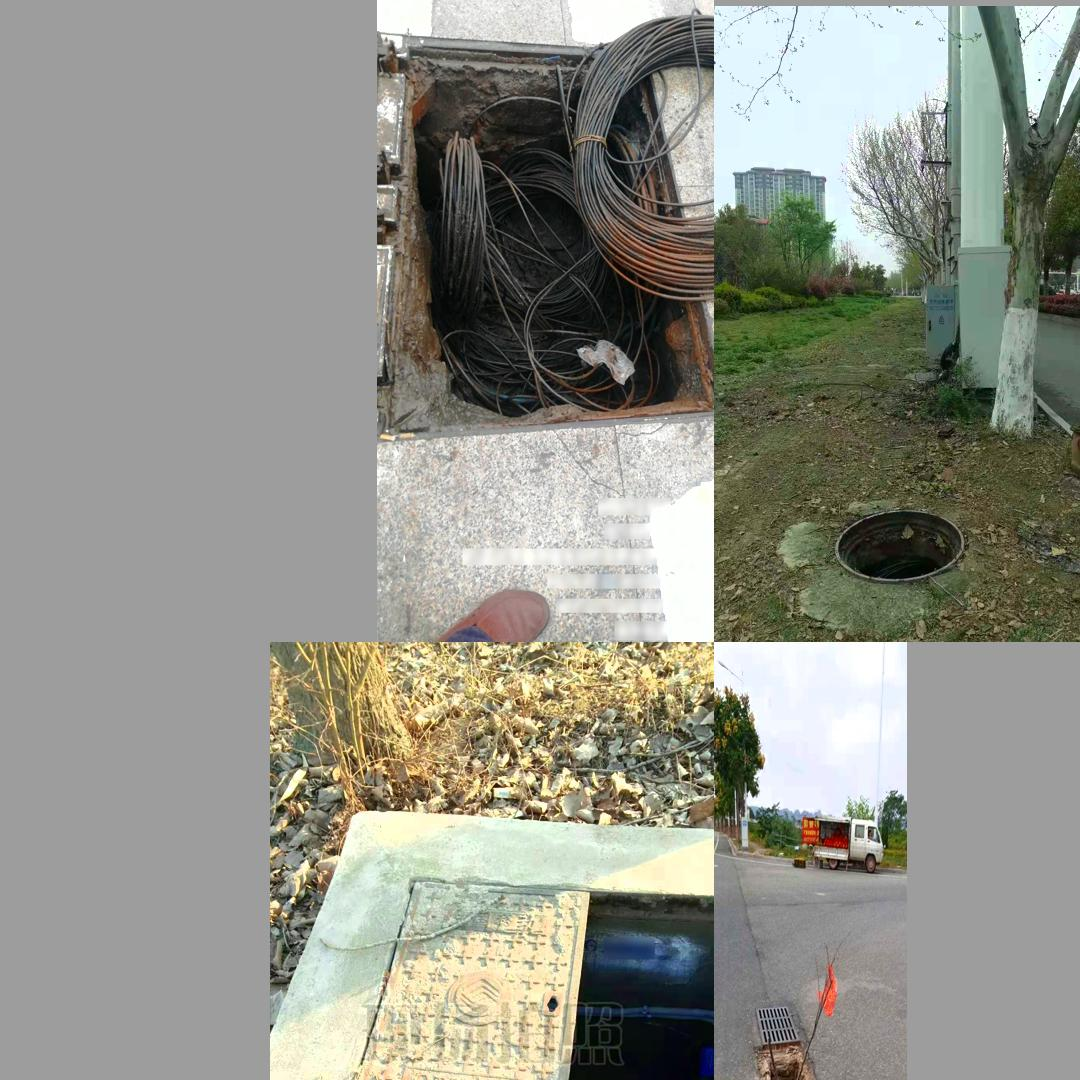lose: (380, 16, 704, 465), (337, 807, 710, 1080), (739, 972, 836, 1080), (834, 508, 964, 582)
